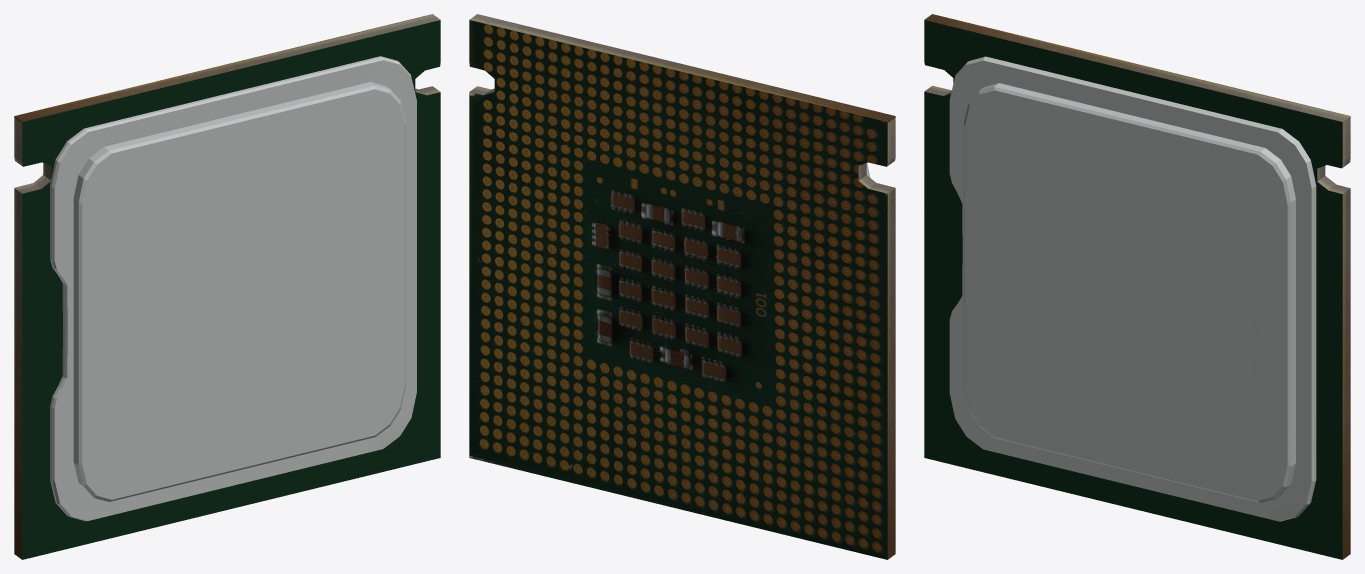
Rendered from processor.glb.
3 views of the same model, side by side, from view 1: azimuth 30°, elevation 25°; view 2: azimuth 150°, elevation 25°; view 3: azimuth 330°, elevation 25° (orthographic).
Visible parts, largest first — view 1: Object_3, Object_2; view 2: Object_2; view 3: Object_3, Object_2.
Part boxes in pixels (bbox=[...]): Object_3: bbox=[50, 56, 416, 521]; Object_2: bbox=[14, 14, 440, 559]; Object_2: bbox=[469, 14, 895, 559]; Object_3: bbox=[949, 56, 1316, 521]; Object_2: bbox=[924, 14, 1350, 559].
Size of the model in its own units: 0.3406 by 0.3406 by 0.0249.
2 materials, 2 textured.
